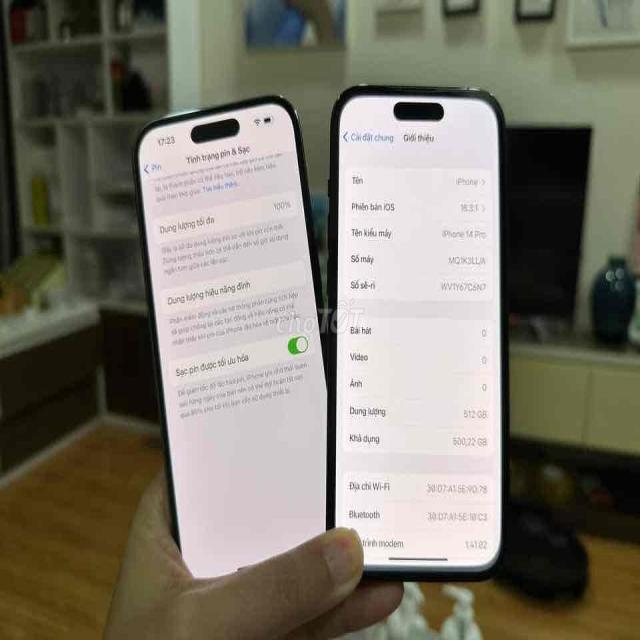gen_14: (323, 69, 517, 583)
